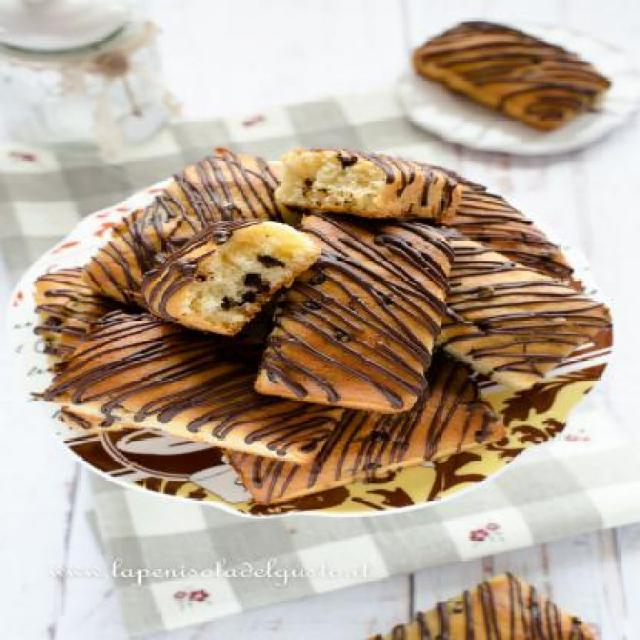Merendine packaged: (46, 313, 346, 469), (254, 208, 436, 420), (398, 218, 604, 394), (124, 209, 320, 340)
